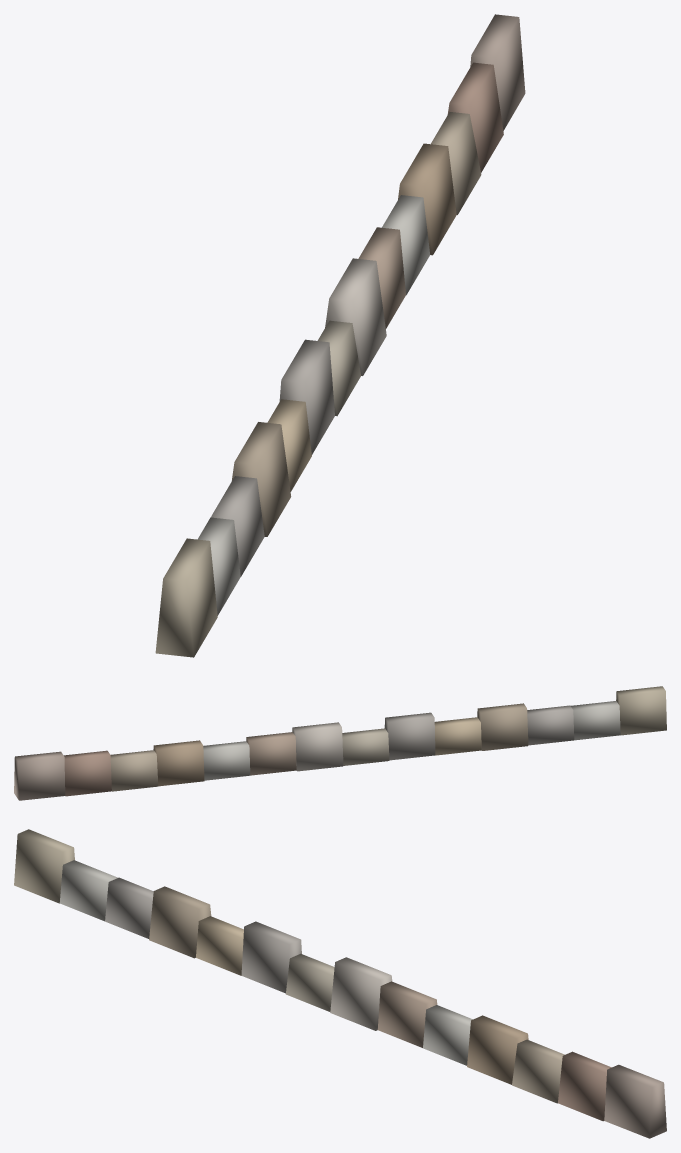
Rendered from farm_6_-4_collision.glb.
3 views of the same model, one above another, from view 1: azimuth 30°, elevation 25°; view 2: azimuth 150°, elevation 25°; view 3: azimuth 270°, elevation 25° (orthographic). The views are drawn at different scales.
Parts seen in each view (by area): view 1: geometry_0; view 2: geometry_0; view 3: geometry_0.
Boxes of the visible parts, box(x1,y1,x2,y2) form: geometry_0: box(155, 14, 525, 657); geometry_0: box(14, 686, 666, 800); geometry_0: box(14, 829, 666, 1138).
Bounding box in the file's own units: 15.91 × 1.61 × 16.28.
